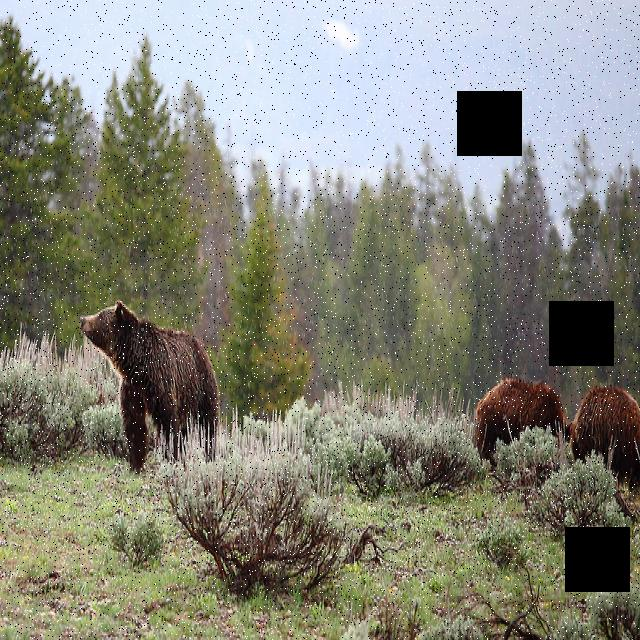Bear: (74, 295, 225, 459), (468, 376, 568, 464), (569, 371, 640, 473)
